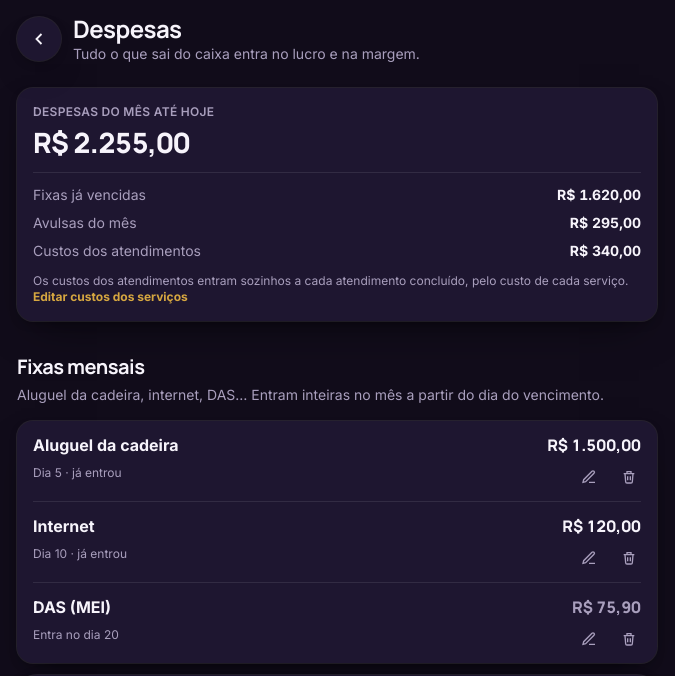
Scenario: ExpensesView › edits the name and value of a fixed expense and the total follows
The image size is (675, 676).
Check: the text "Aluguel da cadeira" is shown, box [33, 435, 178, 455]
Click the button named "Editar Aluguel da cadeira" at coordinates (589, 477), box [569, 457, 609, 497]
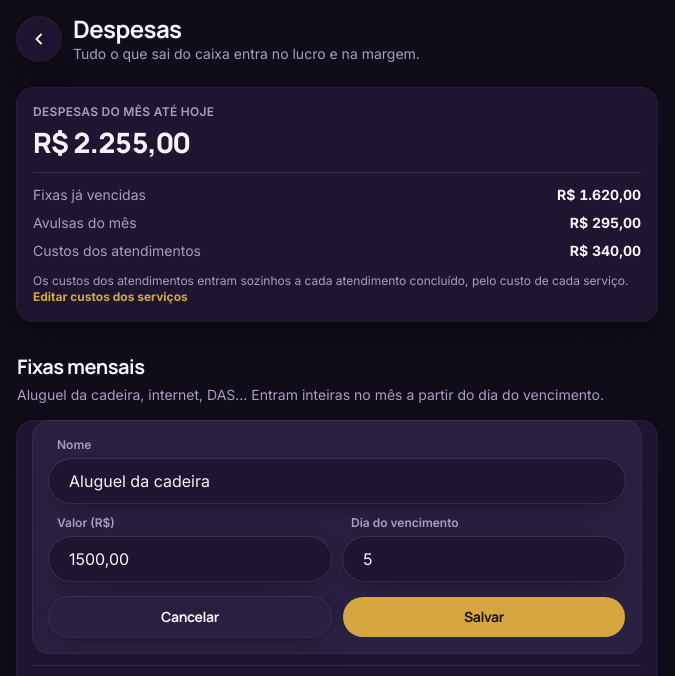
Check: the field labelled "Valor (R$)" holds "1500,00", box [49, 537, 331, 581]
Replace the text in the field labelled "Nome" with "Aluguel da cadeira 2027" at coordinates (337, 481), box [49, 459, 625, 503]
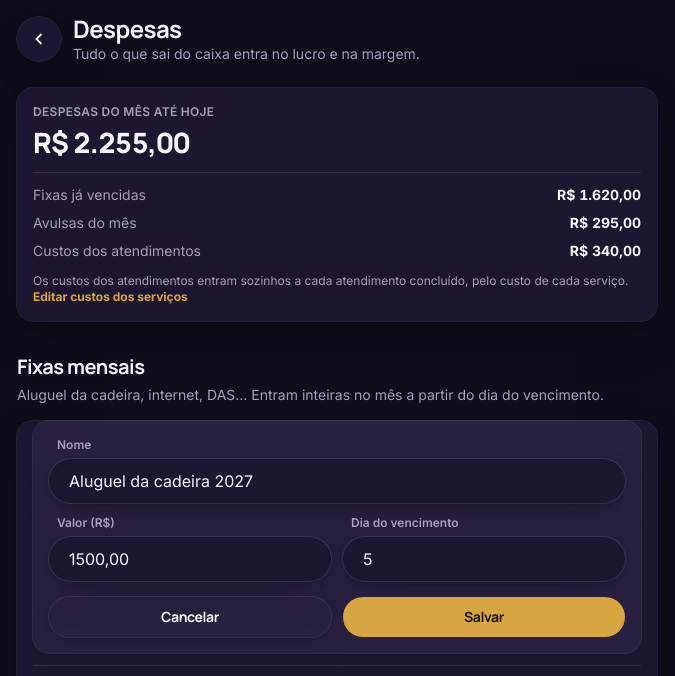
Replace the text in the field labelled "Valor (R$)" with "1.800,00" at coordinates (190, 559), box [49, 537, 331, 581]
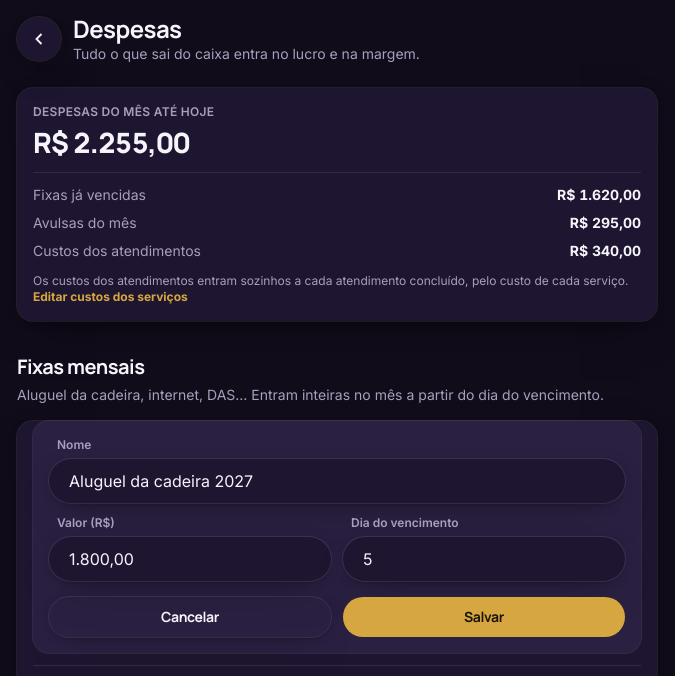
Click the button "Salvar" at coordinates (484, 617), box [343, 597, 625, 637]
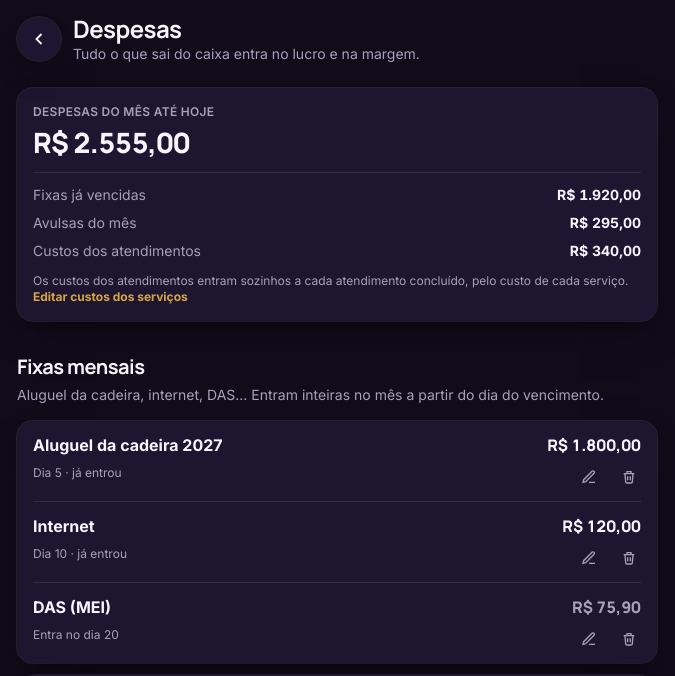
Check: the text "Aluguel da cadeira 2027" is shown, box [33, 435, 223, 455]
Check: the button "Salvar" is gone
